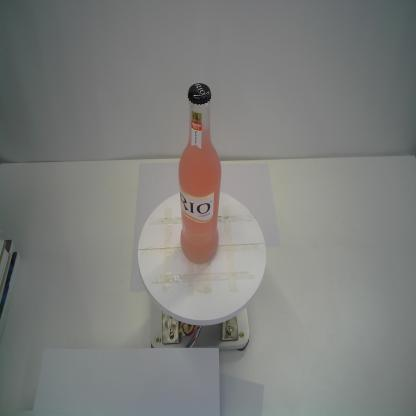Alcohol: (176, 79, 222, 267)
